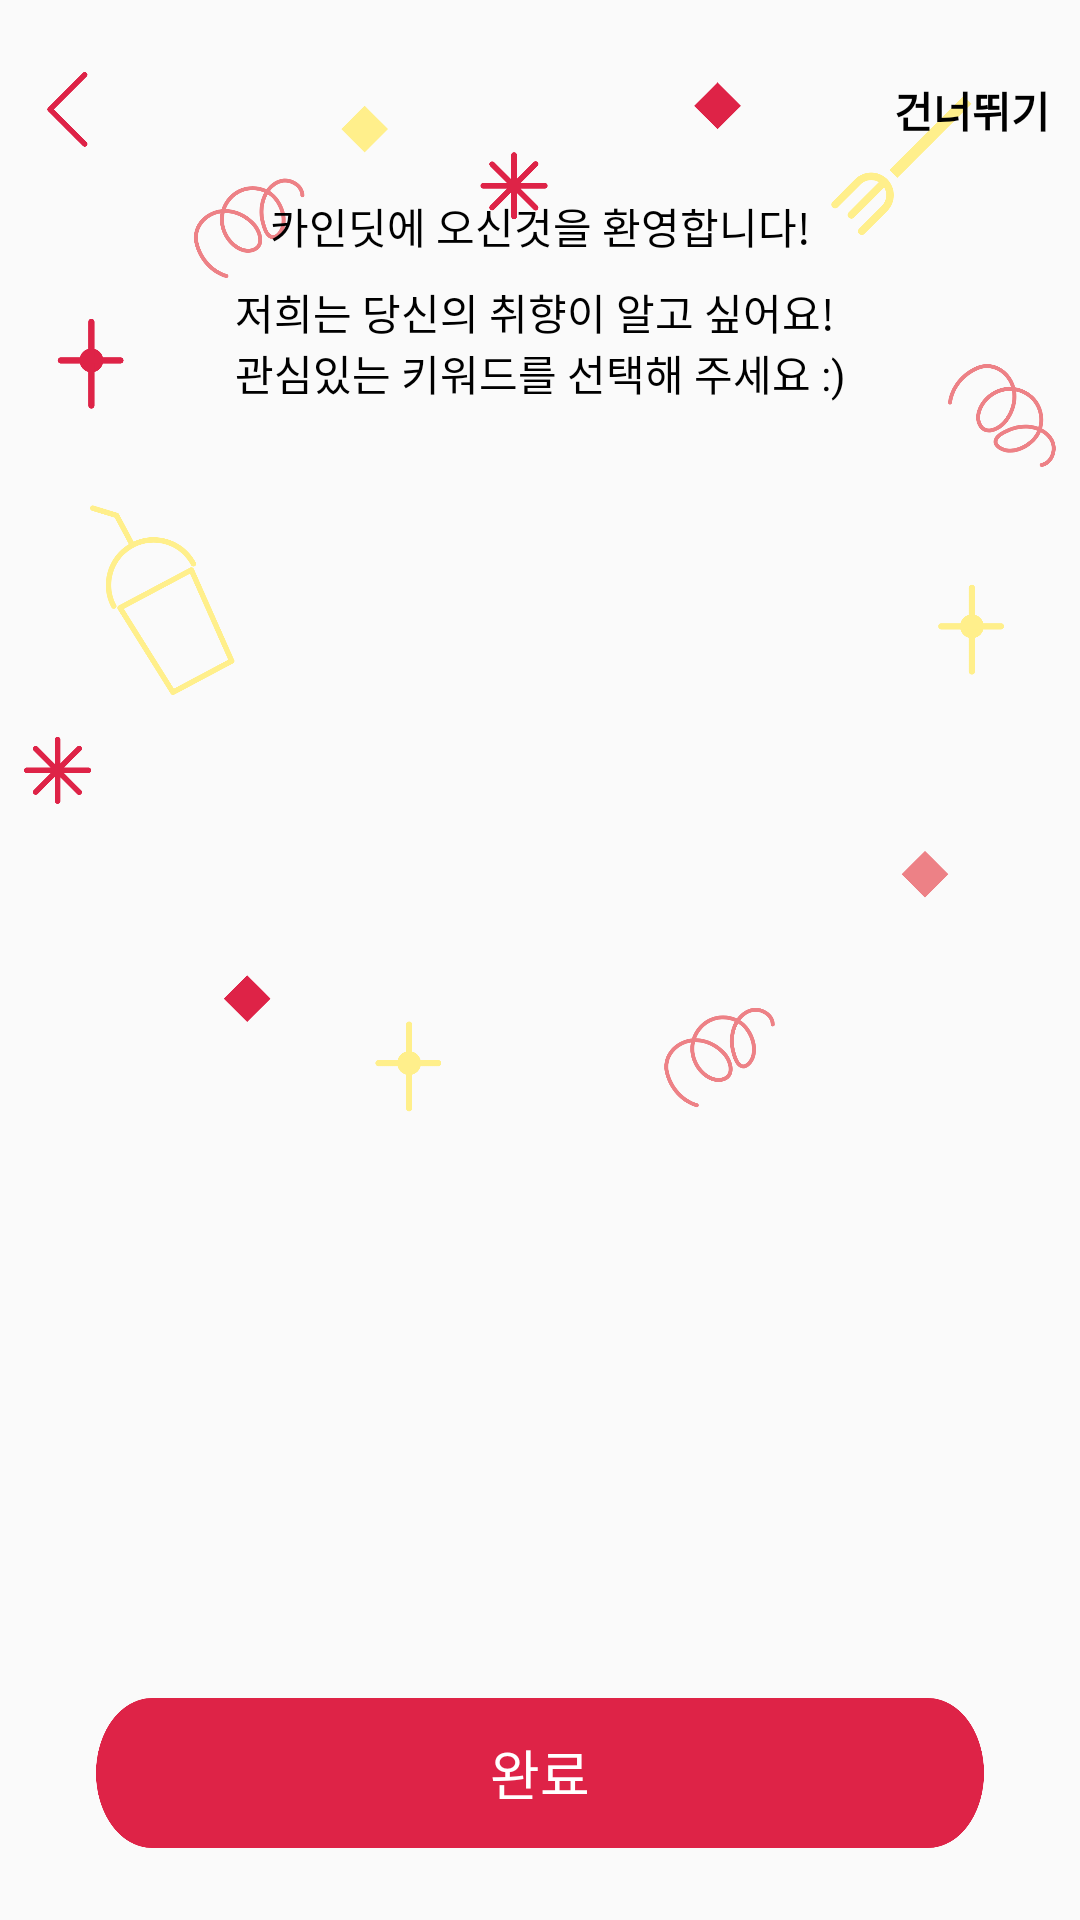

Where to tap for icons on this 1080x1920 app screen, as point (x, y):
back: point (67, 109)
